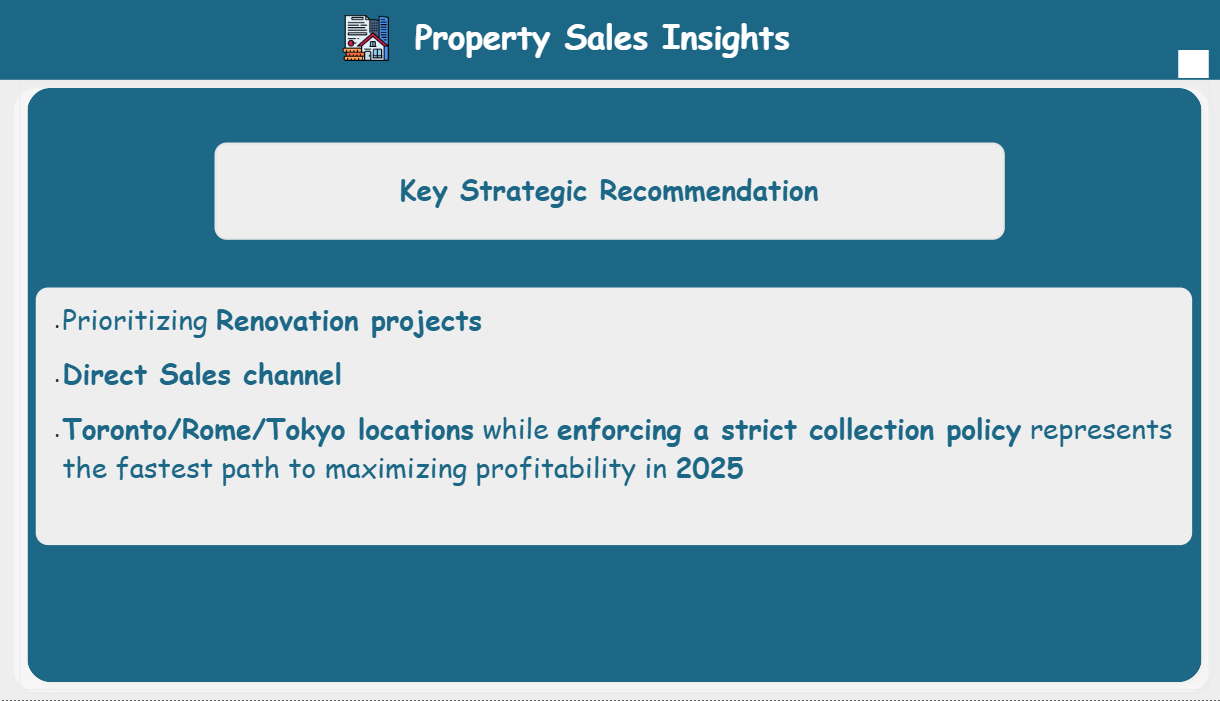

This screenshot's page, from the dashboard's own definition file:
{"tool":"powerbi","page":{"name":"Key Strategic Recommendation","canvas":[1400,800],"ordinal":7},"visuals":[{"type":"shape","box":[0,0,1400,91.4],"z":0},{"type":"textbox","title":"Property Sales Insights","box":[284.3,16.3,815.2,53],"z":1000},{"type":"shape","box":[10,91.4,1385.7,708.6],"z":2000},{"type":"image","box":[388.6,5.7,65.7,75.7],"z":4000},{"type":"shape","box":[25.7,91.4,1360,697.1],"z":5000},{"type":"textbox","box":[248.6,162.9,902.9,111.4],"z":6000},{"type":"textbox","box":[44.3,328.6,1321.4,294.3],"z":7000}]}

Visuals, with their boxes in screenshot pixels (x1, y1, x2, y2), scaled from the page's 1400x800 canvas onto the 1220x701 screenshot:
shape: {"left": 0, "top": 0, "right": 1219, "bottom": 80}
"Property Sales Insights" textbox: {"left": 248, "top": 14, "right": 958, "bottom": 61}
shape: {"left": 9, "top": 80, "right": 1216, "bottom": 700}
image: {"left": 339, "top": 5, "right": 396, "bottom": 71}
shape: {"left": 22, "top": 80, "right": 1208, "bottom": 691}
textbox: {"left": 217, "top": 143, "right": 1003, "bottom": 240}
textbox: {"left": 39, "top": 288, "right": 1190, "bottom": 546}
